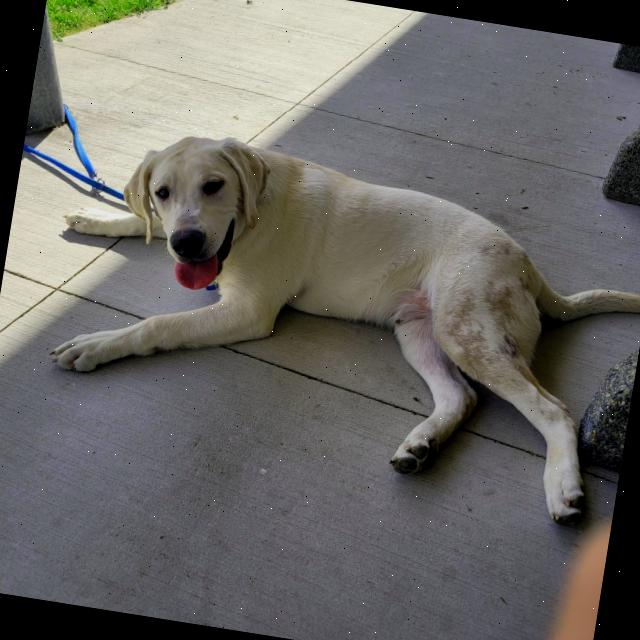labrador_retriever_dog: (102, 116, 281, 306)
